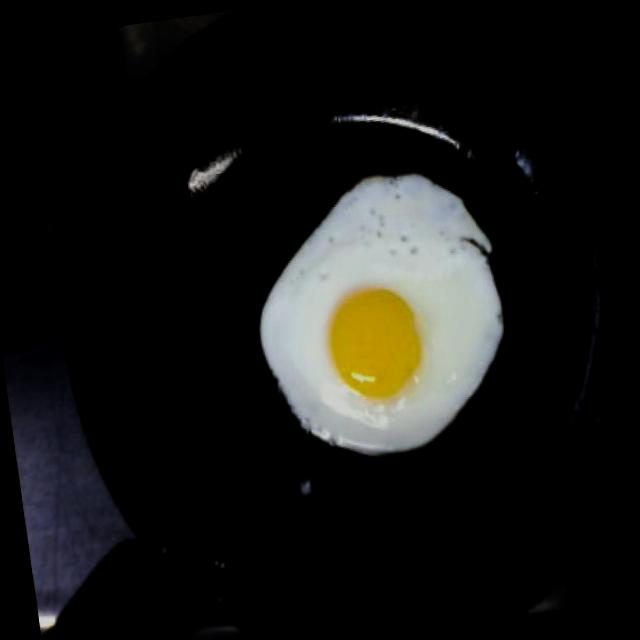Egg: (235, 152, 524, 478)
